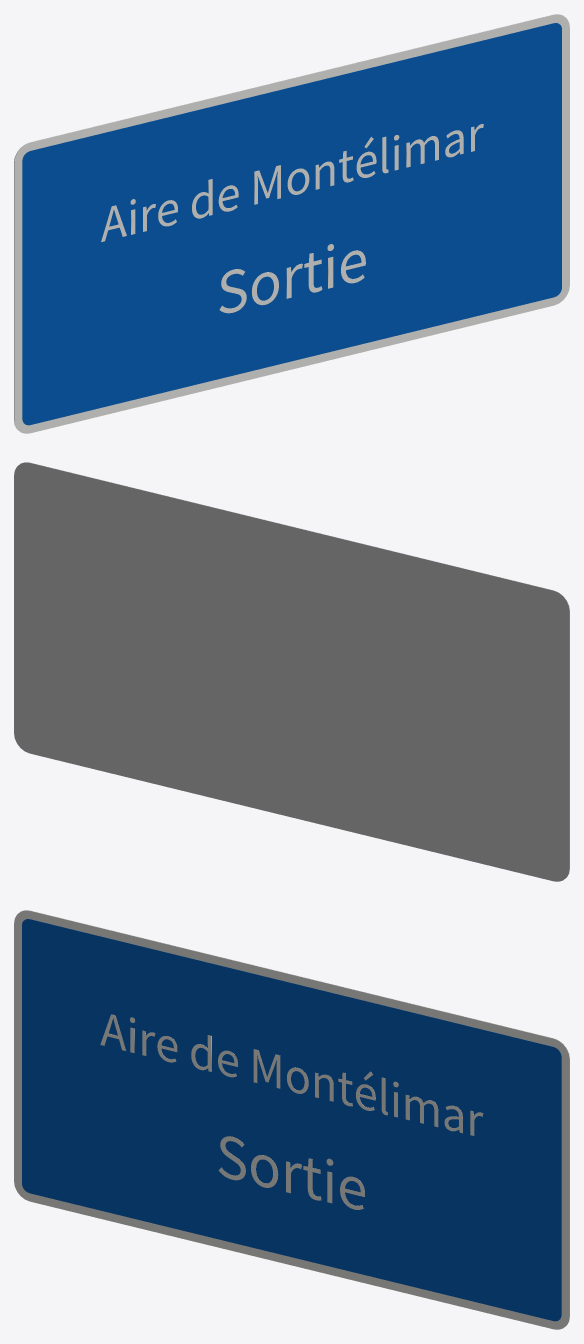
3 views of the same model, one above another, from view 1: azimuth 30°, elevation 25°; view 2: azimuth 150°, elevation 25°; view 3: azimuth 330°, elevation 25° (orthographic).
Visible parts, largest first — view 1: E34d_fond01, E34d_cadre00, E34d_txt02, E34d_txt03, E34d_dos; view 2: E34d_dos; view 3: E34d_fond01, E34d_cadre00, E34d_txt02, E34d_txt03, E34d_dos.
Boxes of the visible parts, x1,y1,x2,y2 form: E34d_fond01: (22,23,561,425); E34d_cadre00: (14,14,569,433); E34d_txt02: (101,124,483,241); E34d_txt03: (219,244,365,313); E34d_dos: (14,14,560,428); E34d_dos: (14,462,569,881); E34d_fond01: (22,919,561,1321); E34d_cadre00: (14,910,569,1329); E34d_txt02: (100,1014,483,1135); E34d_txt03: (218,1136,364,1209); E34d_dos: (23,910,569,1324).
Bounding box in the file's own units: 1.4 × 0.7 × 0.0029.
